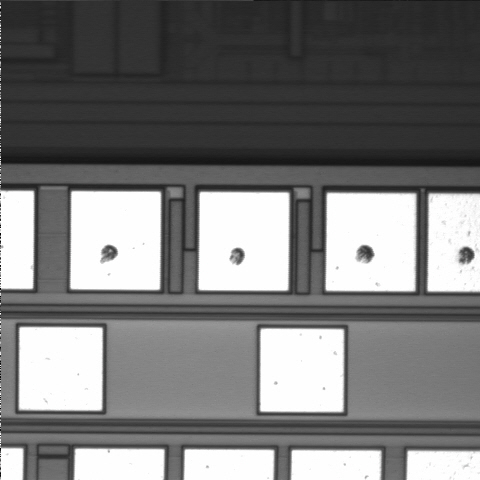pad: (71, 191, 161, 290), (199, 192, 289, 291), (326, 193, 416, 291), (19, 327, 103, 410), (260, 329, 344, 412)
